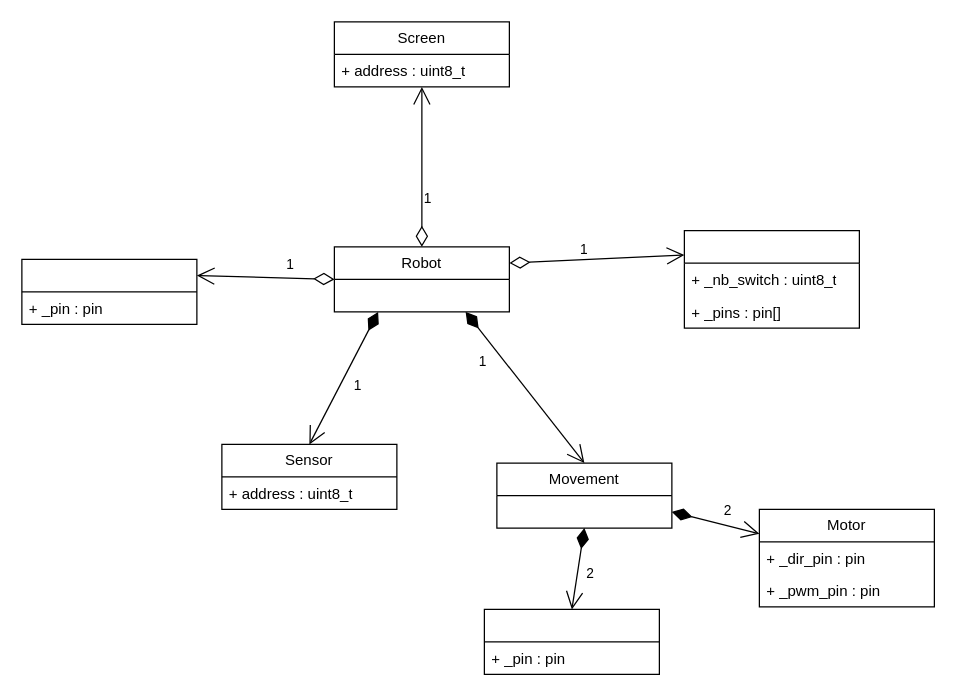
The diagram is 956 pixels wide and 700 high, and some of its shapes have lost their labels. The box of each missing label's shape, as (x1, y1, x2, y2) in pixels:
DipSwitch: (683, 229, 859, 328)
DiscCounter: (483, 608, 659, 674)
Servo: (21, 258, 197, 324)
